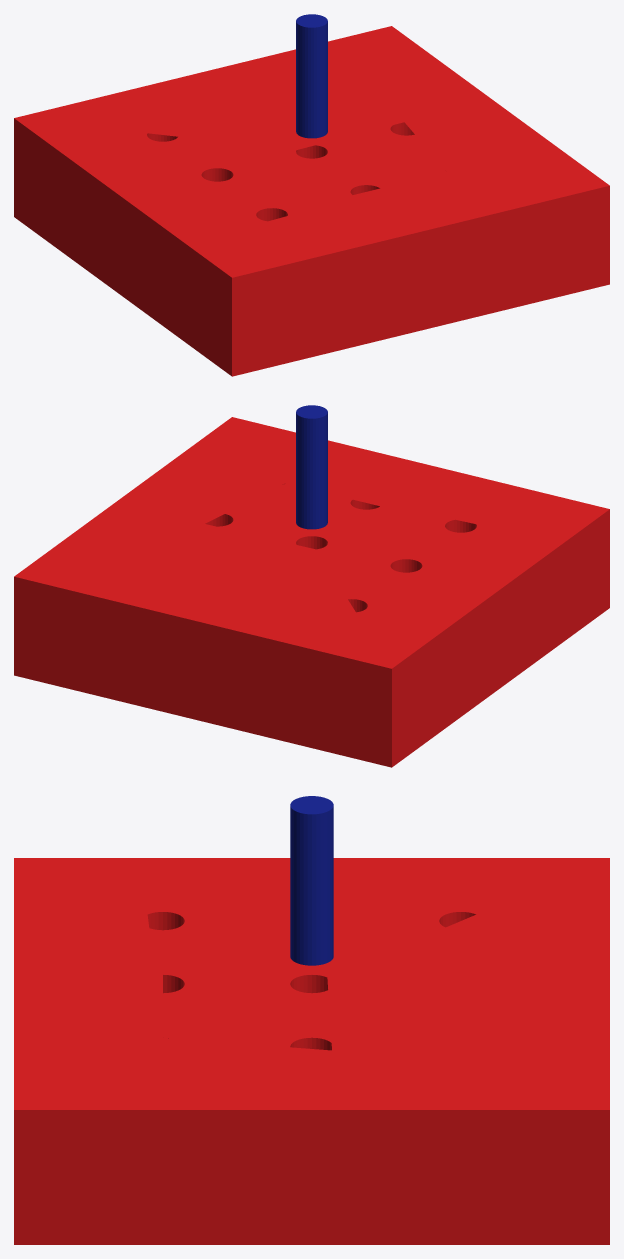
Rendered from Pegboard3.fbx.
3 renders of one model, top to bottom at view 1: azimuth 30°, elevation 25°; view 2: azimuth 150°, elevation 25°; view 3: azimuth 270°, elevation 25°, orthographic. The views are drawn at different scales.
Visible parts, largest first — view 1: Cube, Cylinder; view 2: Cube, Cylinder; view 3: Cube, Cylinder.
Boxes of the visible parts, x1,y1,x2,y2 form: Cube: [14, 26, 609, 376]; Cylinder: [296, 14, 327, 138]; Cube: [14, 417, 609, 767]; Cylinder: [296, 405, 327, 529]; Cube: [14, 858, 609, 1244]; Cylinder: [290, 796, 333, 965].
Bounding box in the file's own units: 400 × 232 × 400.
